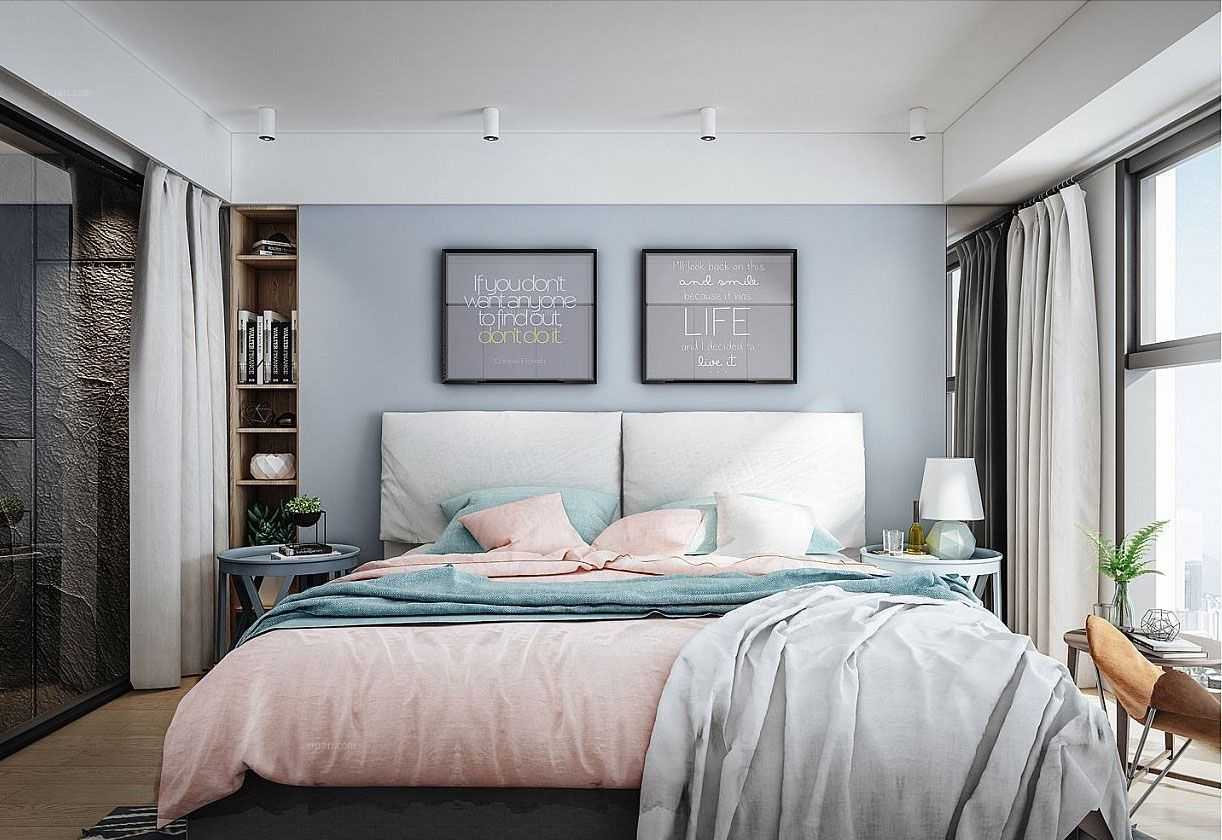床: (154, 548, 1112, 829)
枕头: (445, 481, 836, 563)
灯: (917, 454, 991, 565), (478, 100, 507, 145), (694, 103, 722, 146), (908, 123, 934, 145), (256, 125, 279, 147)
